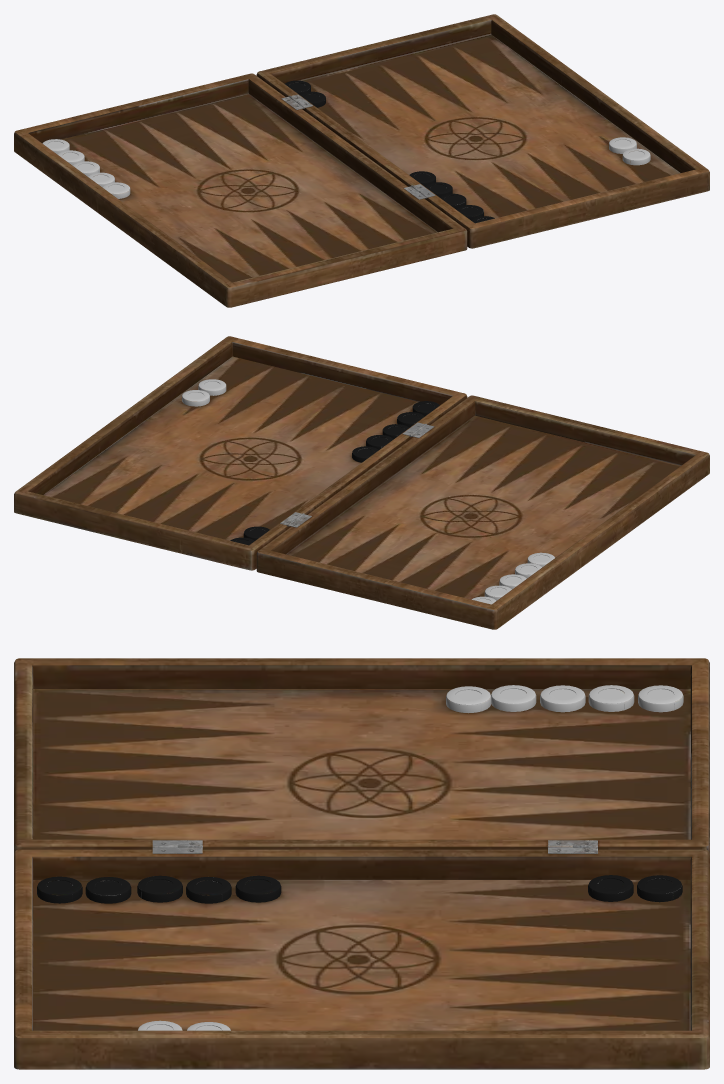
Rendered from backgammon-opt.glb.
The picture shows the model from 3 angles, top to bottom: view 1: azimuth 30°, elevation 25°; view 2: azimuth 150°, elevation 25°; view 3: azimuth 270°, elevation 25°; orthographic projection. The views are drawn at different scales.
Bounding box in the file's own units: 8.66 × 0.366 × 6.69.
Materials: 1 (1 with a texture image).
